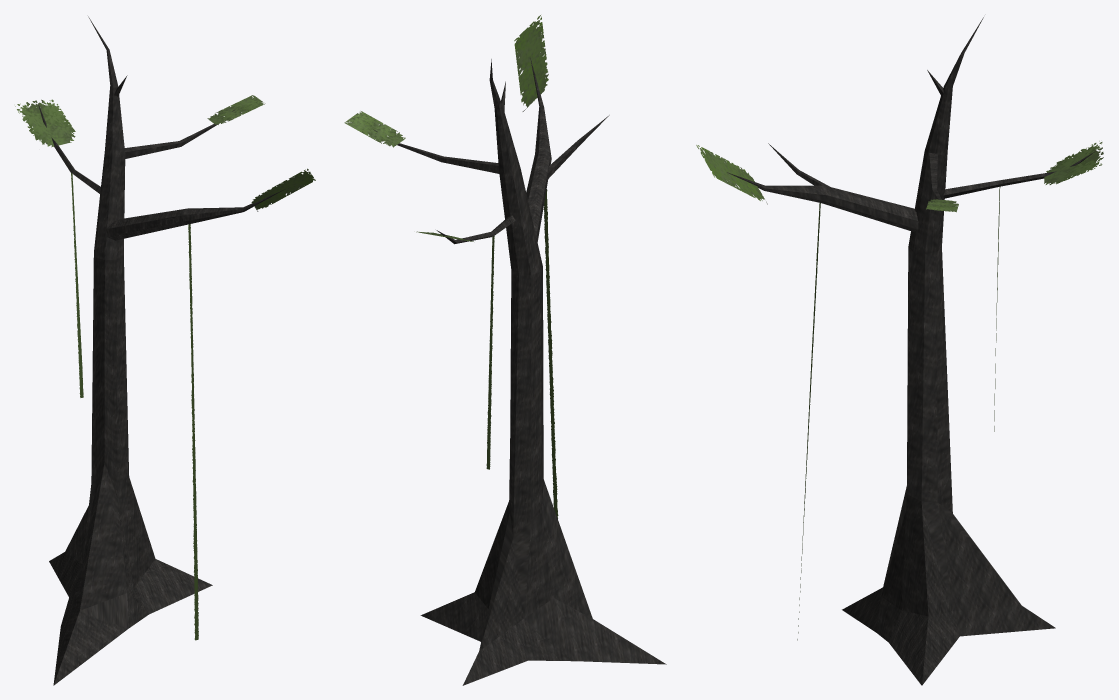
The model's file is tree3.obj.
The picture shows the model from 3 angles, left to right: view 1: azimuth 30°, elevation 25°; view 2: azimuth 150°, elevation 25°; view 3: azimuth 270°, elevation 25°; orthographic projection. The views are drawn at different scales.
Parts seen in each view (by area): view 1: Cylinder; view 2: Cylinder; view 3: Cylinder.
Part boxes in pixels (x1,y1,x2,y2): Cylinder: (15, 16, 315, 685); Cylinder: (344, 15, 666, 685); Cylinder: (696, 17, 1103, 685).
Size of the model in its own units: 3.38 by 7.66 by 4.38.
1 material, 1 textured.
